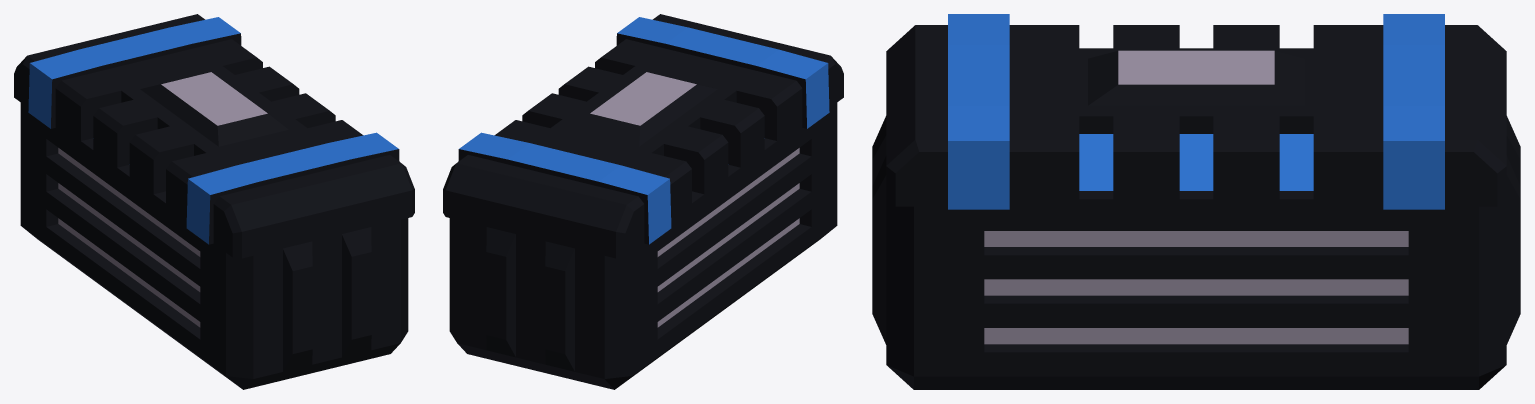
The model's file is crate.fbx.
3 renders of one model, left to right at view 1: azimuth 30°, elevation 25°; view 2: azimuth 150°, elevation 25°; view 3: azimuth 270°, elevation 25°, orthographic. The views are drawn at different scales.
Visible parts, largest first — view 1: cap, body; view 2: cap, body; view 3: body, cap.
Boxes of the visible parts, x1,y1,x2,y2 form: cap: (14,14,414,258); body: (20,103,408,389); cap: (443,14,843,258); body: (449,103,837,389); body: (872,116,1520,389); cap: (886,14,1506,209).
Bounding box in the file's own units: 110 × 108 × 233.
1 material, 1 textured.
